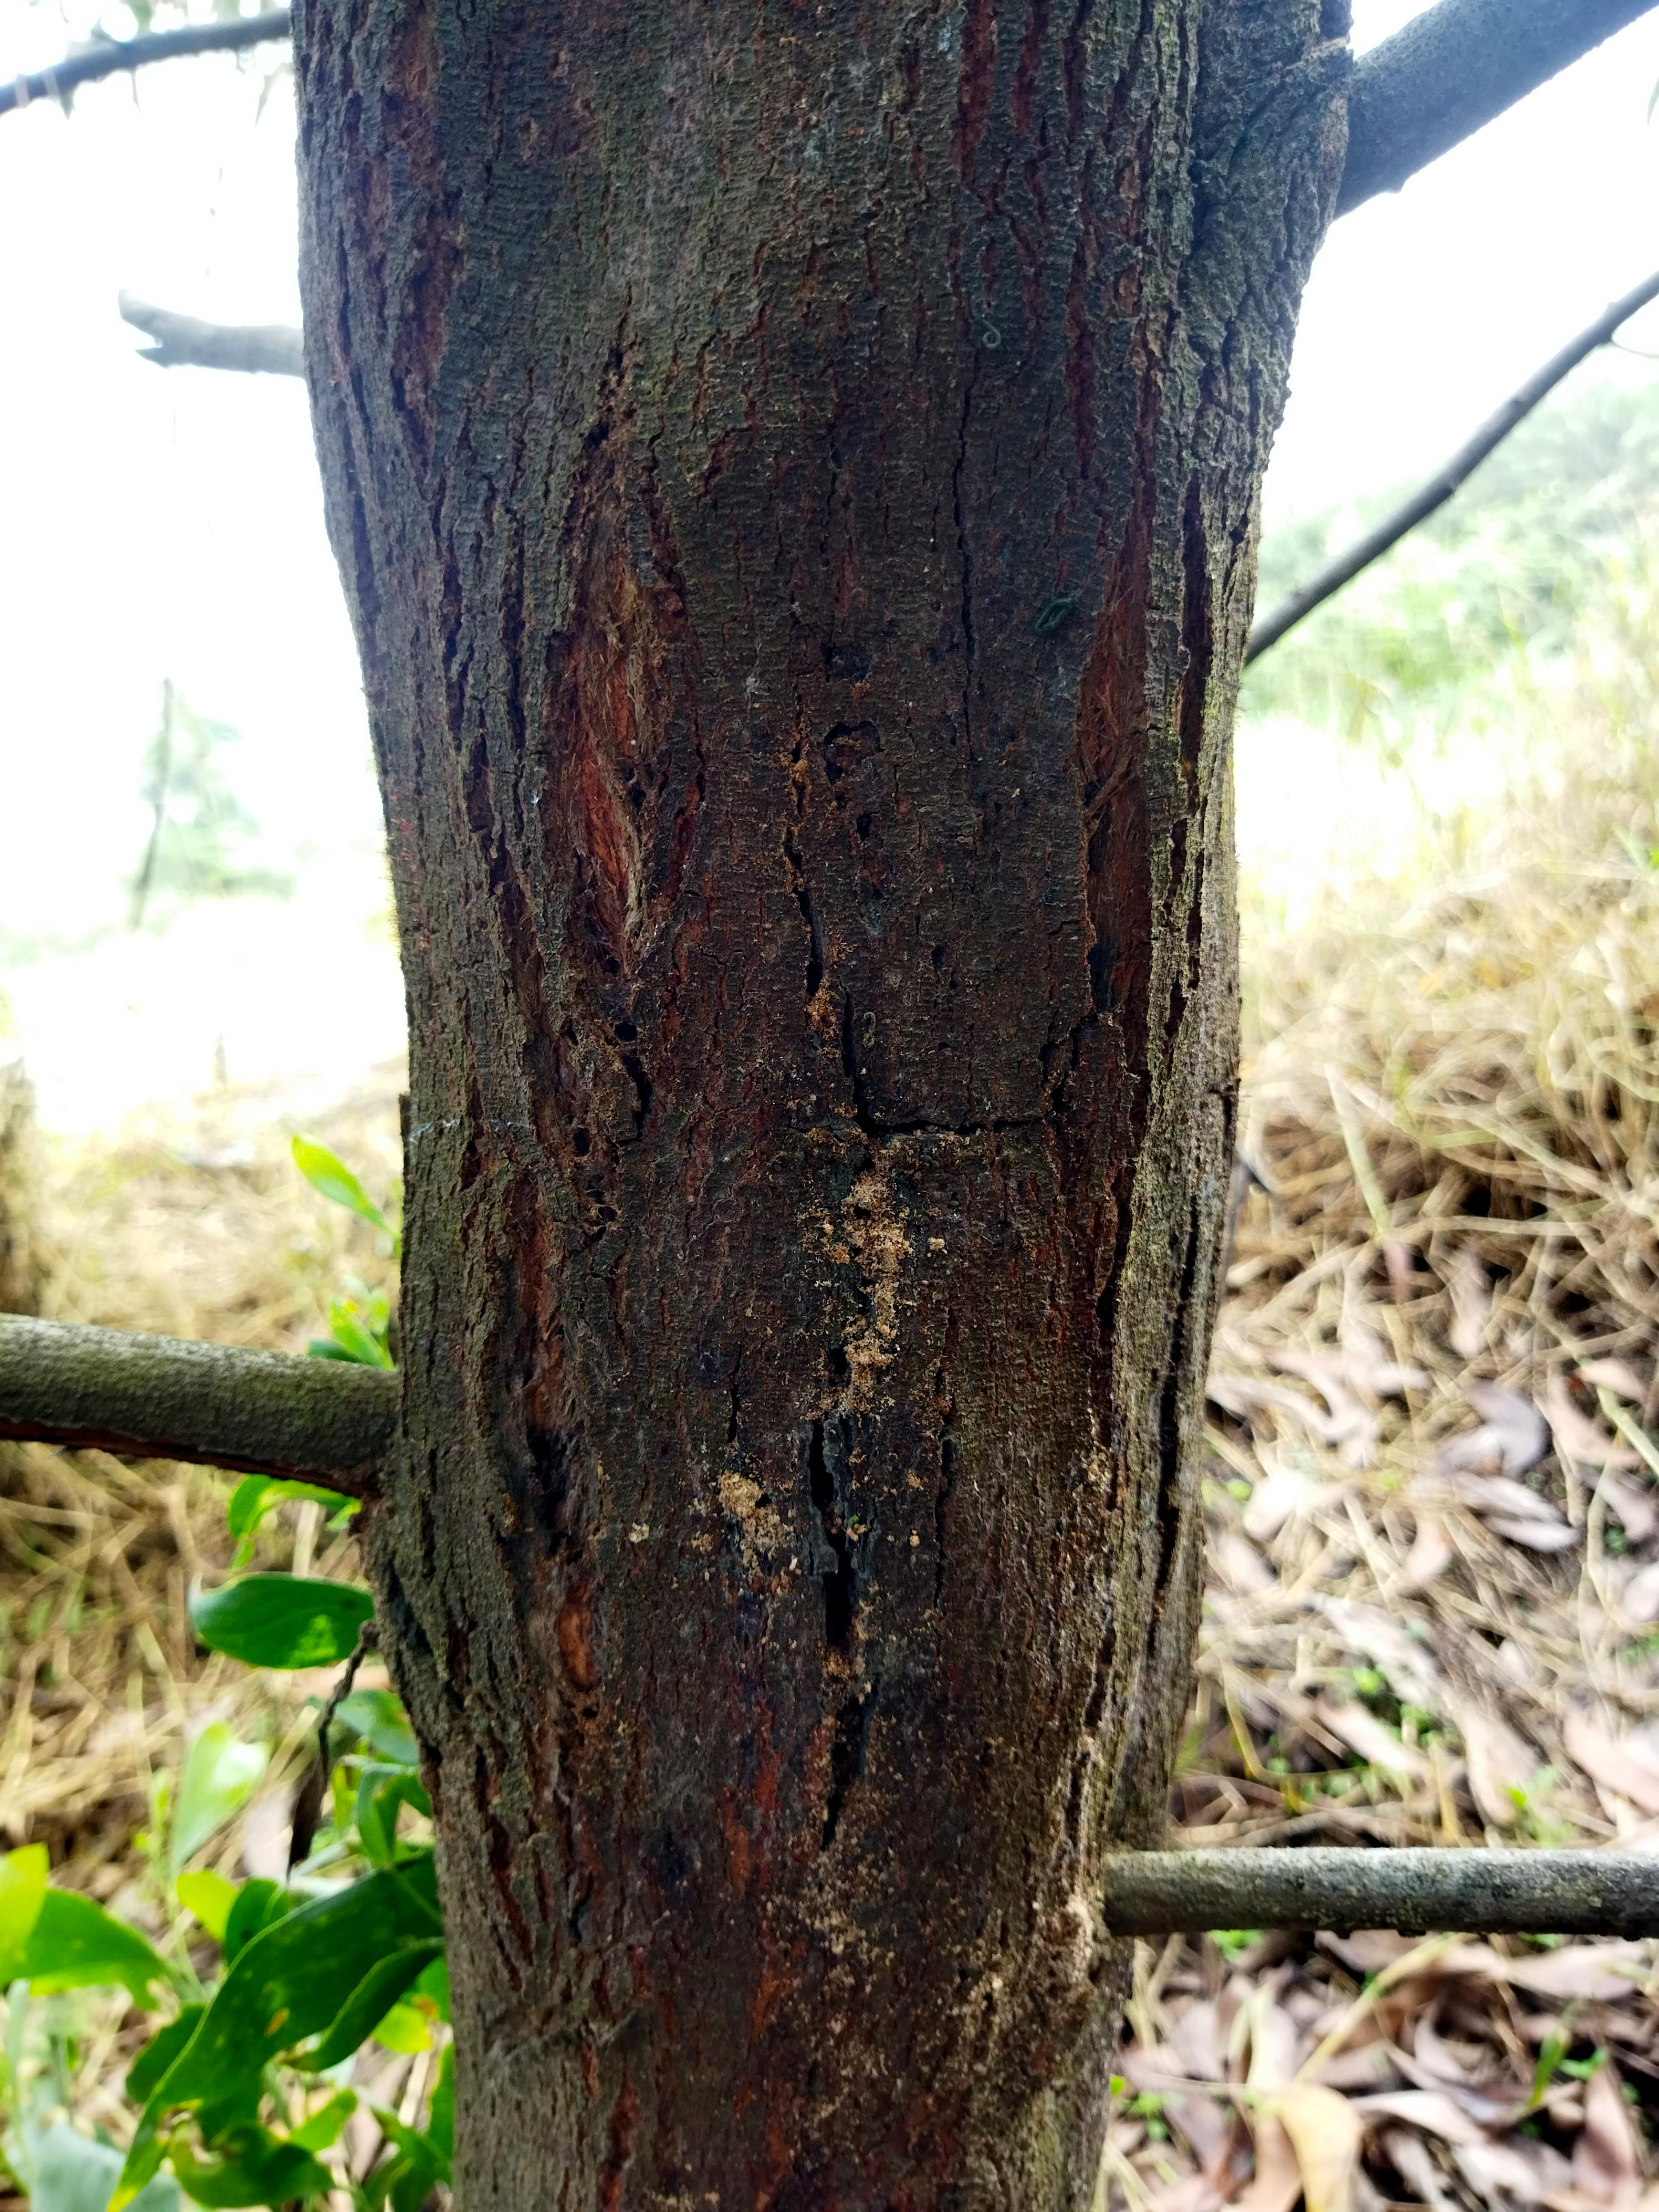Stem Deformation: (295, 129, 1265, 2027)
